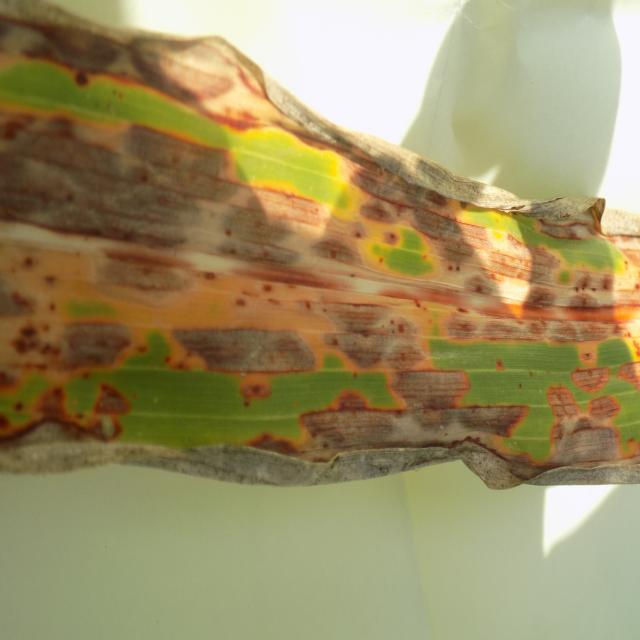millet_rust: (0, 0, 638, 494)
